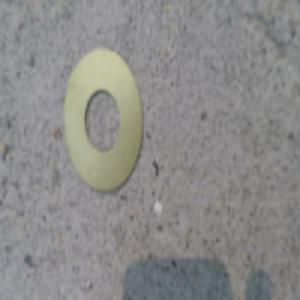Washer: (62, 47, 143, 195)
